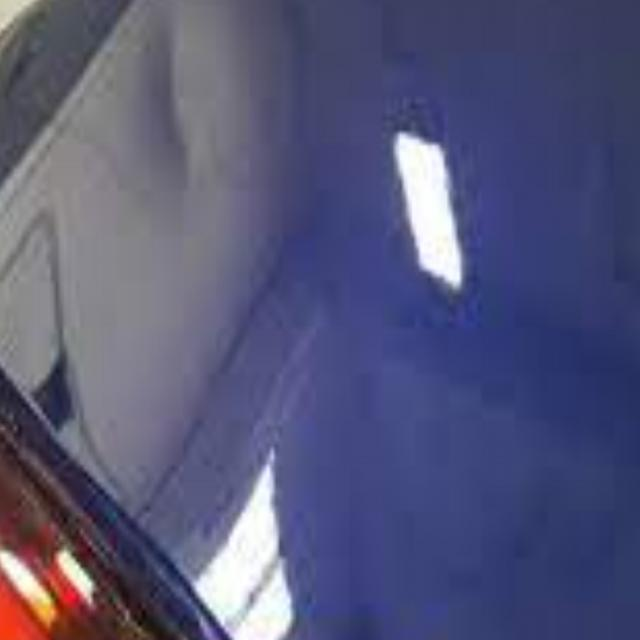dents: (128, 8, 248, 196)
